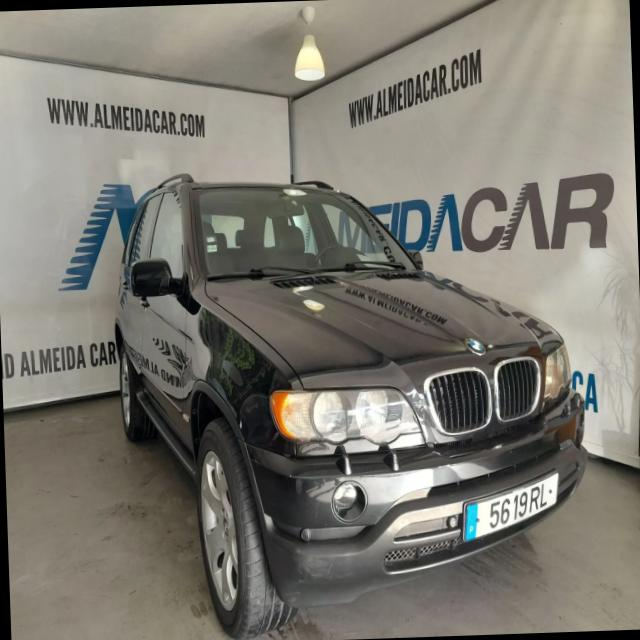portuguese-license-plates: (460, 466, 563, 552)
